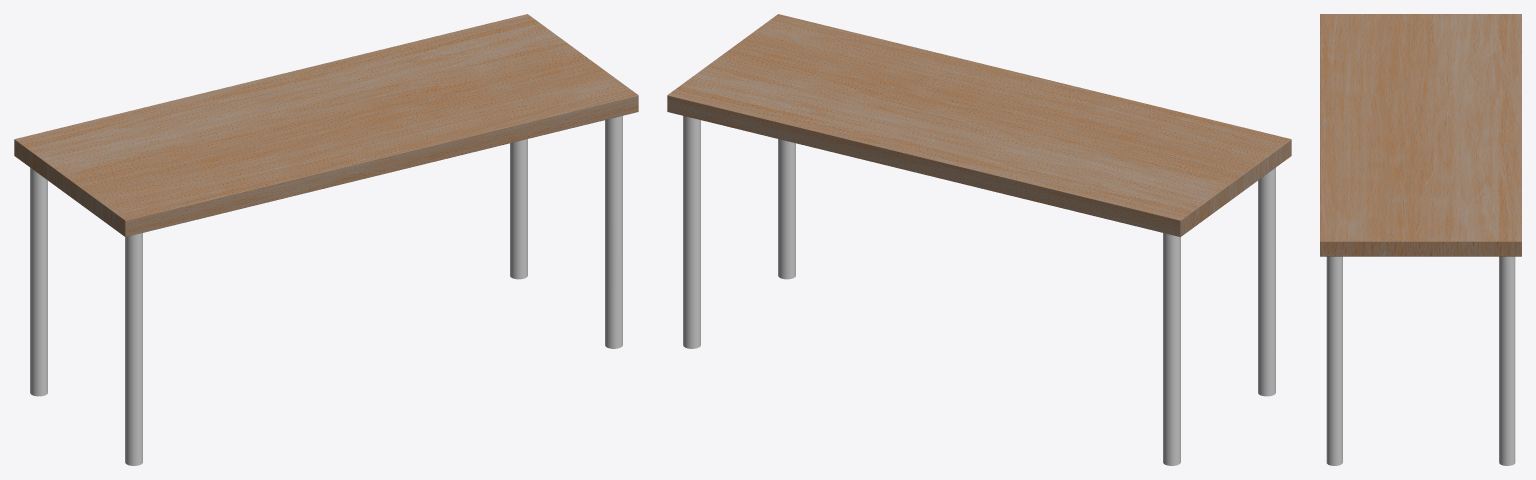
Rendered from Table 001.fbx.
3 views of the same model, side by side, from view 1: azimuth 30°, elevation 25°; view 2: azimuth 150°, elevation 25°; view 3: azimuth 270°, elevation 25° (orthographic). The views are drawn at different scales.
Parts seen in each view (by area): view 1: Cube, Cylinder.001; view 2: Cube, Cylinder.001; view 3: Cube, Cylinder.001.
Part boxes in pixels (x1,y1,x2,y2): Cube: (14,14,638,236); Cylinder.001: (30,116,622,465); Cube: (667,14,1291,236); Cylinder.001: (683,116,1275,465); Cube: (1320,14,1521,256); Cylinder.001: (1326,256,1515,465).
Bounding box in the file's own units: 160 × 74.93 × 60.
